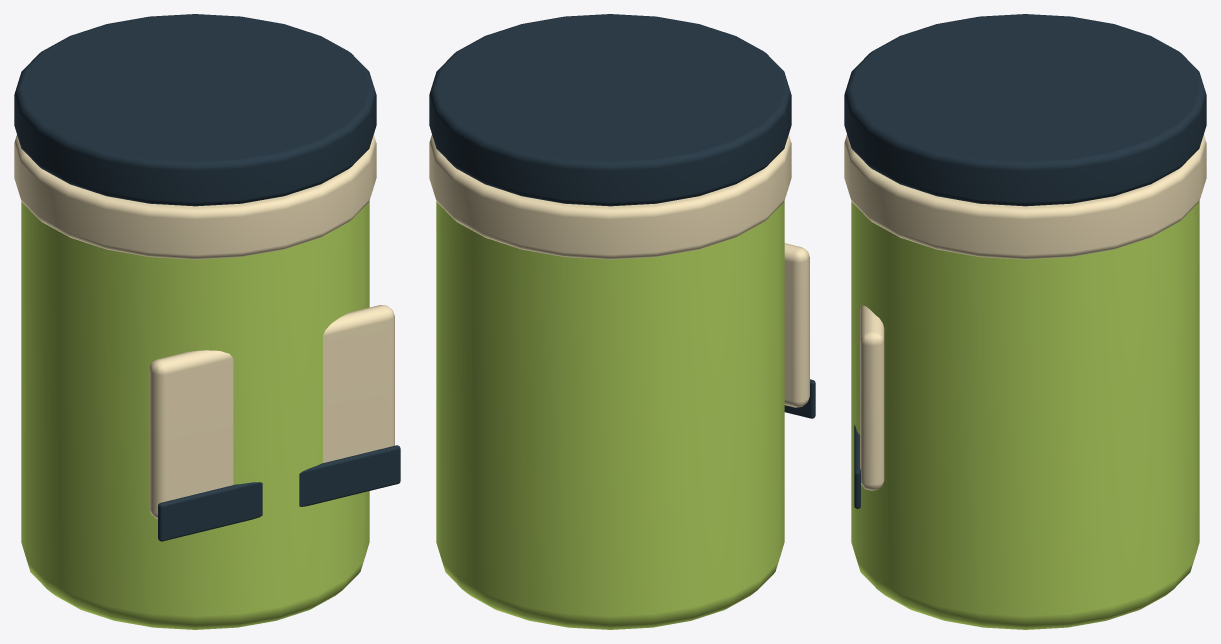
Rendered from caffeine.glb.
3 renders of one model, left to right at view 1: azimuth 30°, elevation 25°; view 2: azimuth 150°, elevation 25°; view 3: azimuth 270°, elevation 25°, orthographic.
Parts seen in each view (by area): view 1: Canister, Lid, Label, Rim, Stripe; view 2: Canister, Lid, Rim, Label; view 3: Canister, Lid, Rim, Label, Stripe.
Part boxes in pixels (left/top/right/bottom): Canister: left=21, top=201, right=369, bottom=629; Lid: left=14, top=14, right=376, bottom=206; Label: left=149, top=305, right=394, bottom=518; Rim: left=14, top=134, right=376, bottom=259; Stripe: left=158, top=445, right=400, bottom=541; Canister: left=436, top=201, right=784, bottom=629; Lid: left=429, top=14, right=791, bottom=206; Rim: left=429, top=134, right=791, bottom=259; Label: left=784, top=243, right=809, bottom=407; Canister: left=851, top=201, right=1199, bottom=629; Lid: left=844, top=14, right=1206, bottom=206; Rim: left=844, top=135, right=1206, bottom=259; Label: left=860, top=305, right=884, bottom=490; Stripe: left=854, top=425, right=860, bottom=508.
Size of the model in its own units: 0.52 by 0.755 by 0.52.
